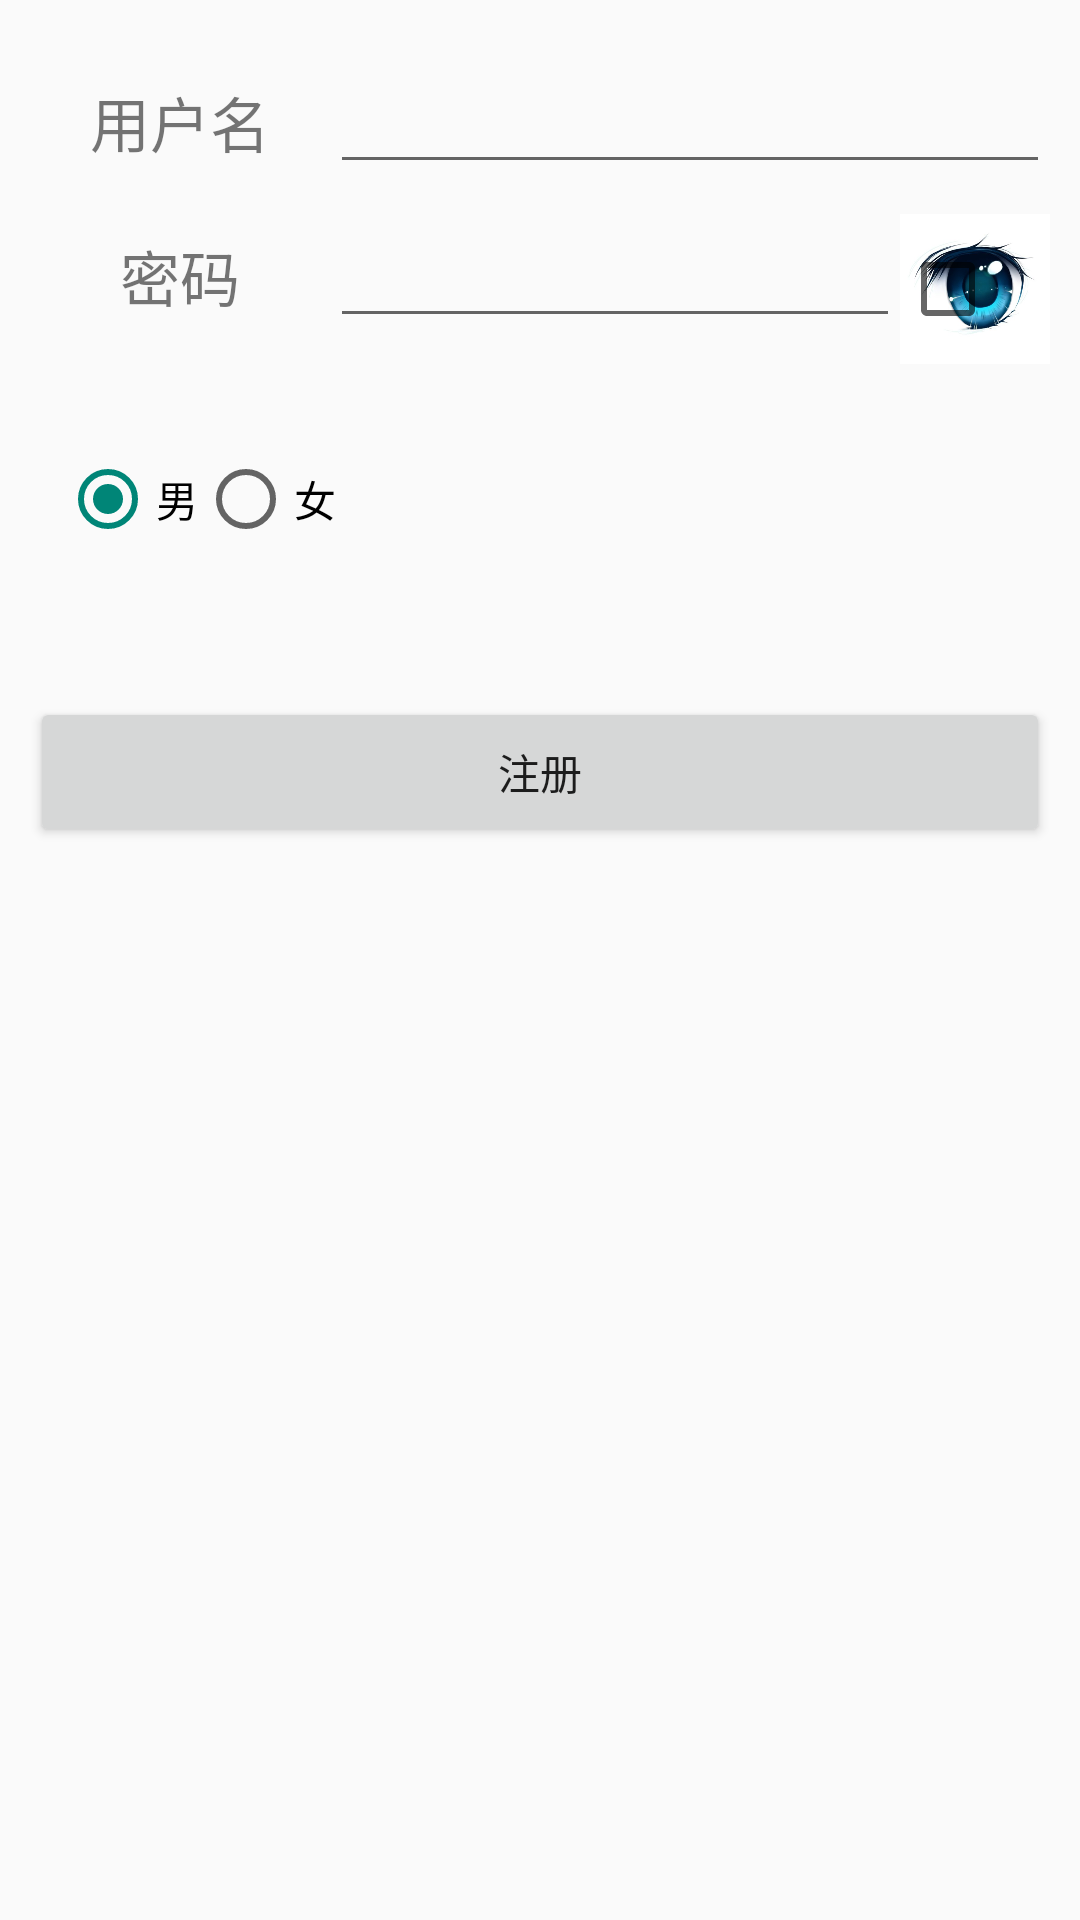

Screen size 1080px x 1920px. Icon name, then its box in pixels as detection(x1, y1, x2, y2):
show password: detection(915, 234, 1034, 330)
